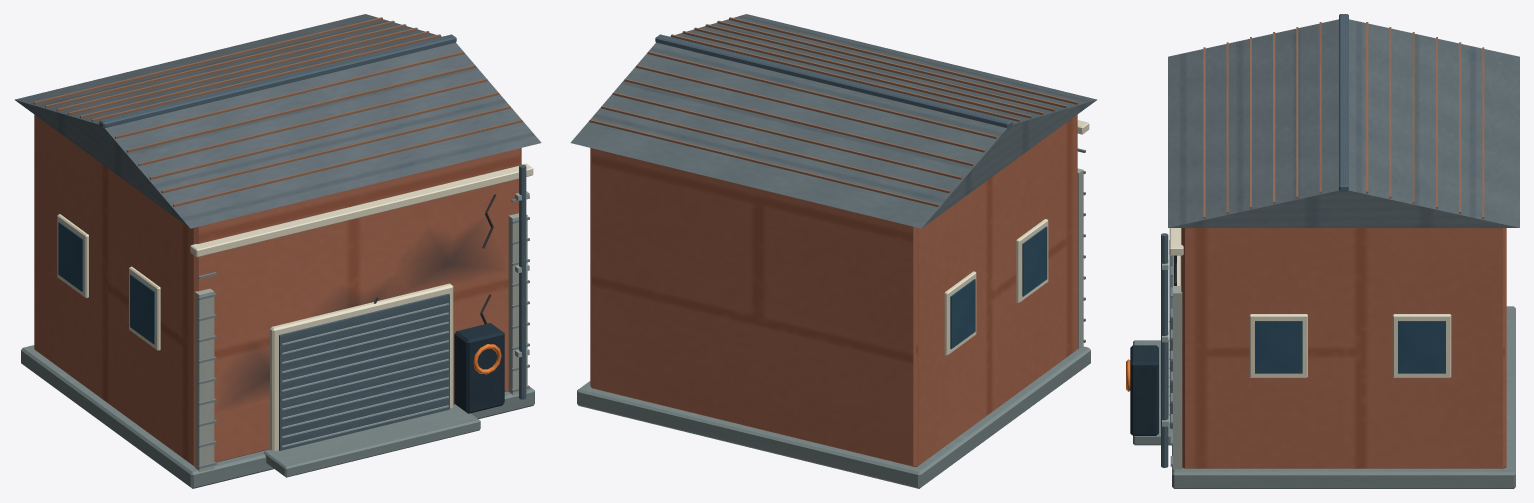
The model's file is workshop-scorched.glb.
3 views of the same model, side by side, from view 1: azimuth 30°, elevation 25°; view 2: azimuth 150°, elevation 25°; view 3: azimuth 270°, elevation 25° (orthographic).
Visible parts, largest first — view 1: workshop-scorched; view 2: workshop-scorched; view 3: workshop-scorched.
Boxes of the visible parts, x1,y1,x2,y2 form: workshop-scorched: (14,14,541,488); workshop-scorched: (570,14,1097,488); workshop-scorched: (1126,14,1519,488).
Size of the model in its own units: 6.14 by 5.09 by 5.93.
3 materials, 3 textured.
